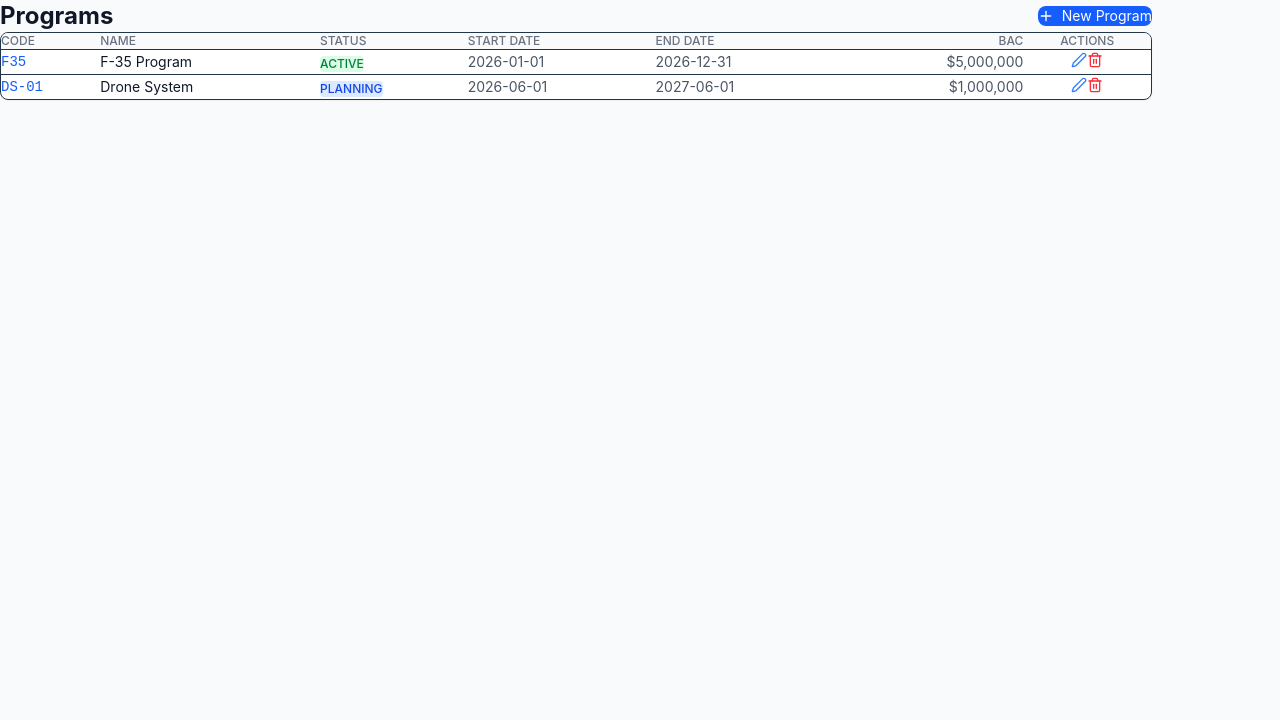
Test: ProgramsPage › edit program › opens edit modal when Edit button is clicked
Click the button titled "Edit" in the row of "F35": [1079, 60] box [1071, 52, 1087, 68]
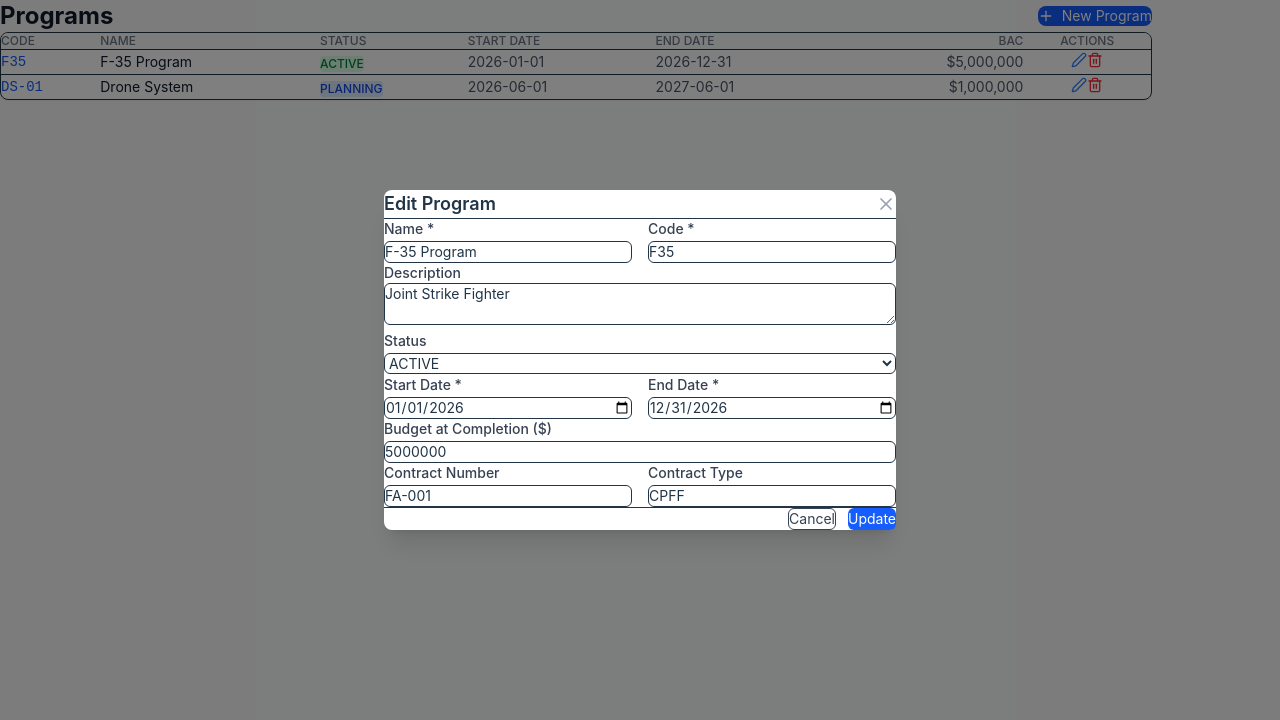
Expected: the heading "Edit Program" is shown, [384, 190, 496, 218]
